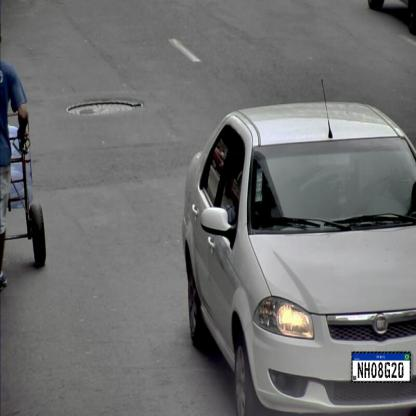PlacaM: (351, 352, 411, 382)
